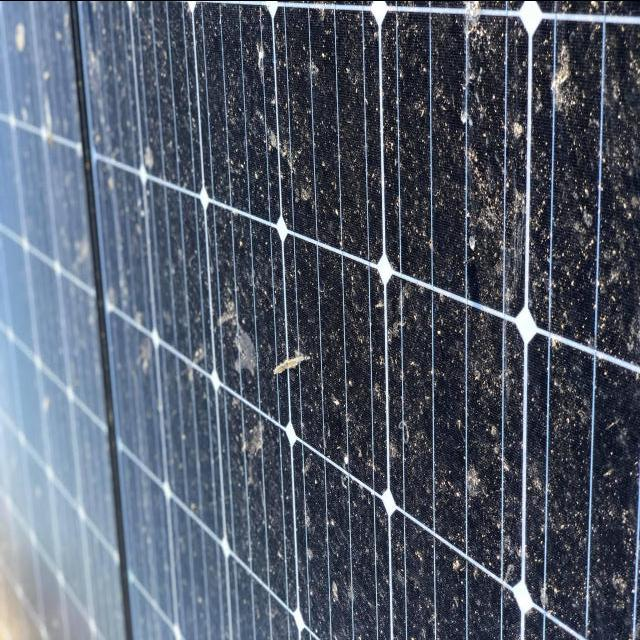soiled: (96, 2, 640, 640)
